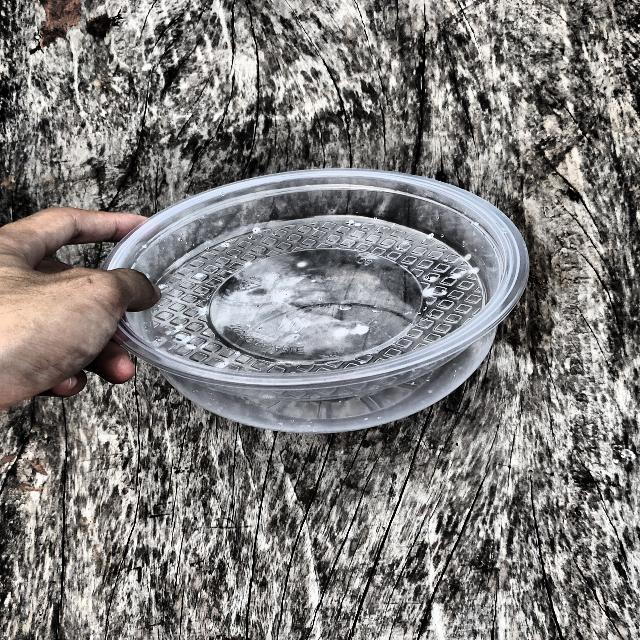plastic container: (86, 171, 534, 434)
